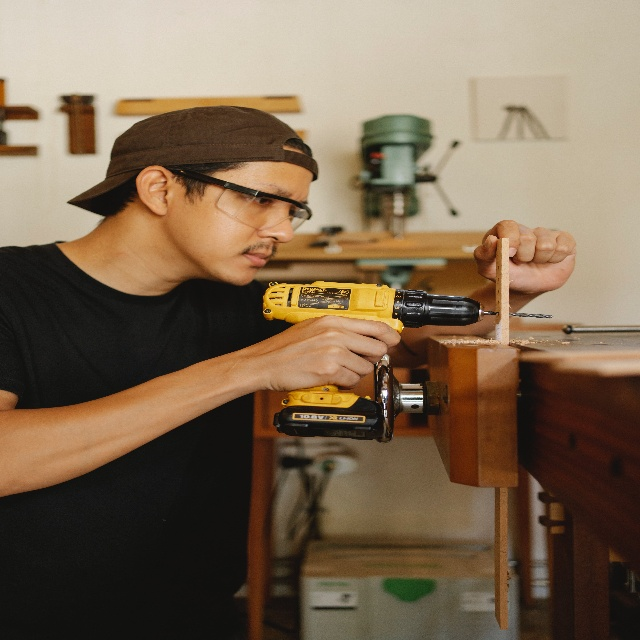Gafas: (166, 165, 312, 232)
Sin_guantes: (255, 323, 402, 392), (473, 219, 577, 296)
